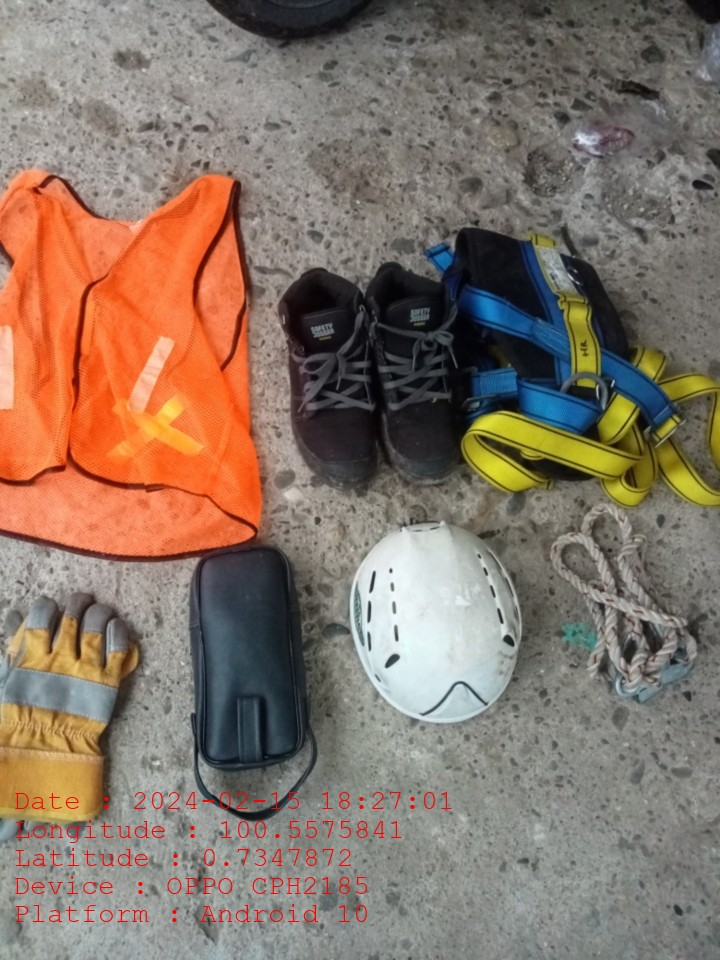HELM: (346, 521, 524, 726)
ROMPI: (1, 172, 258, 544)
SEPATU: (278, 261, 459, 488)
TAMBANG_SLING: (546, 501, 699, 703)
